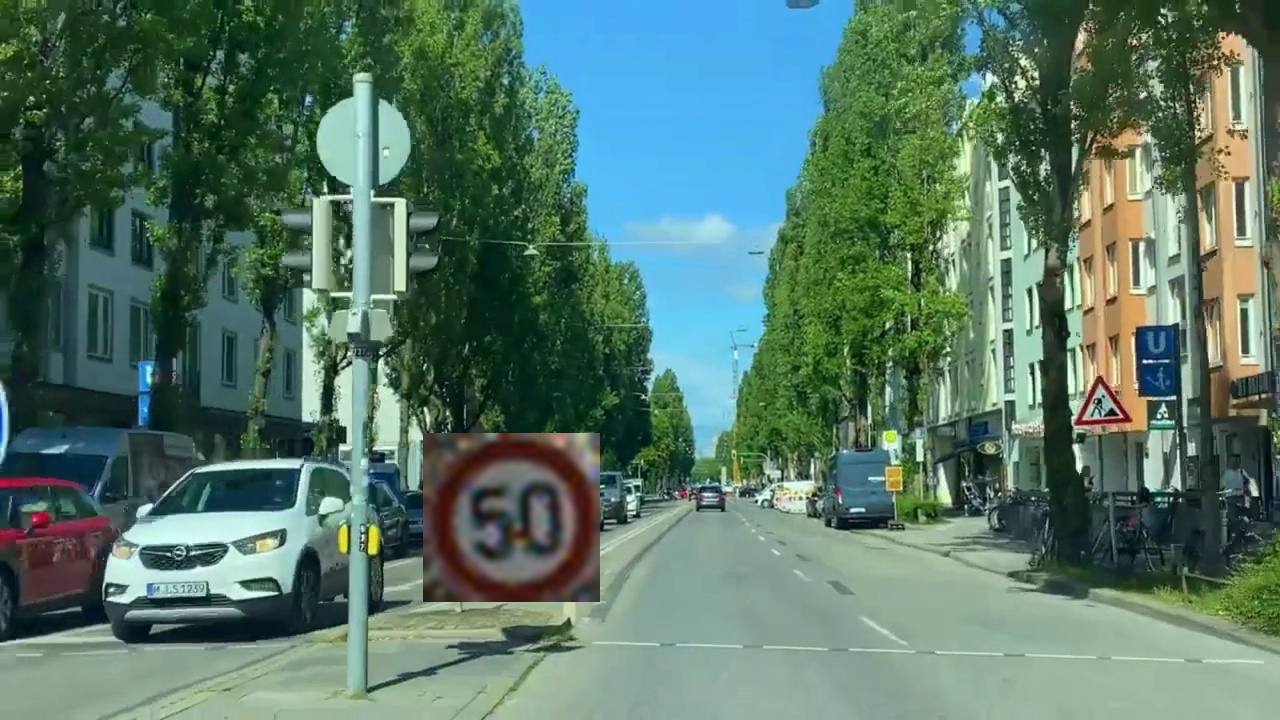Speed 50: (423, 433, 600, 602)
